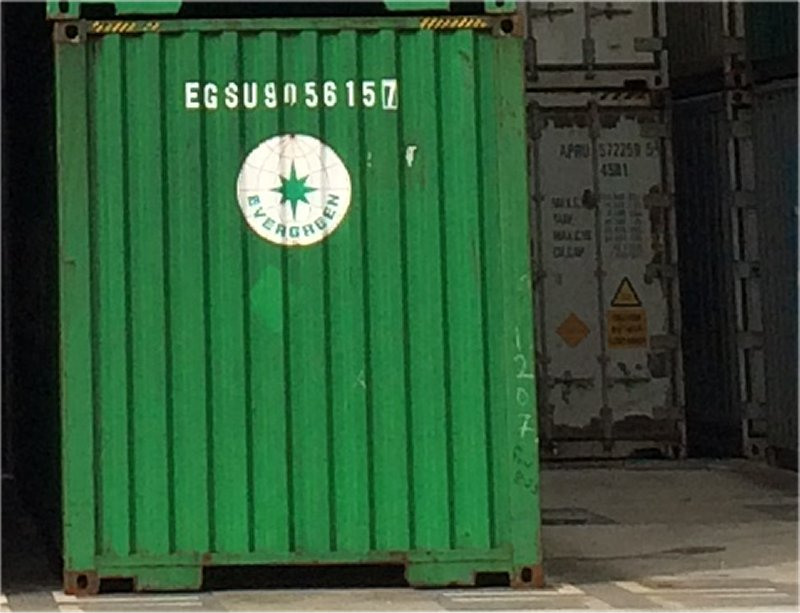container_no_door: (56, 17, 539, 595)
